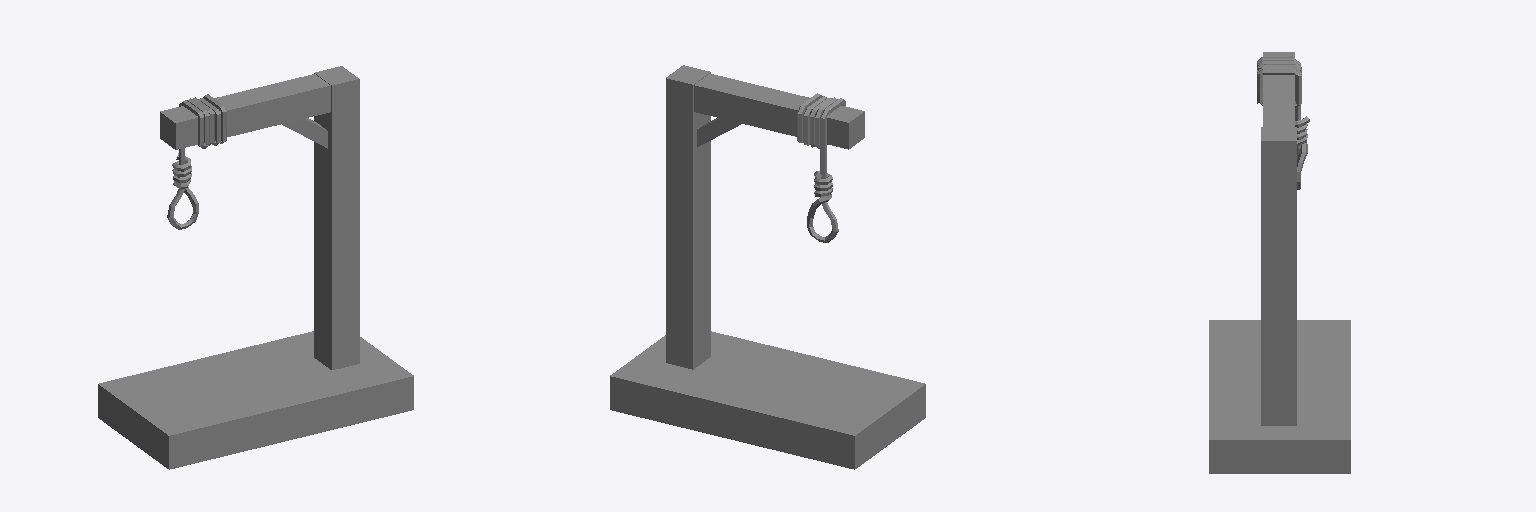
File: gallows.obj
The picture shows the model from 3 angles: view 1: azimuth 30°, elevation 25°; view 2: azimuth 150°, elevation 25°; view 3: azimuth 270°, elevation 25°; orthographic projection.
Parts seen in each view (by area): view 1: Box04, Box01, Box02, ChamferCyl, Box03; view 2: Box04, Box01, Box02, ChamferCyl, Box03; view 3: Box04, Box01, ChamferCyl, Box02.
Boxes of the visible parts, x1=… form: Box04: x1=98, y1=331, x2=413, y2=469; Box01: x1=314, y1=66, x2=359, y2=369; Box02: x1=160, y1=74, x2=330, y2=149; ChamferCyl: x1=167, y1=94, x2=226, y2=229; Box03: x1=282, y1=118, x2=327, y2=148; Box04: x1=610, y1=331, x2=925, y2=469; Box01: x1=666, y1=65, x2=710, y2=369; Box02: x1=694, y1=74, x2=864, y2=149; ChamferCyl: x1=797, y1=93, x2=845, y2=242; Box03: x1=697, y1=118, x2=740, y2=146; Box04: x1=1209, y1=320, x2=1350, y2=473; Box01: x1=1261, y1=127, x2=1296, y2=425; ChamferCyl: x1=1257, y1=57, x2=1309, y2=189; Box02: x1=1263, y1=52, x2=1294, y2=126.
Bounding box in the file's own units: 106 × 138 × 53.41.